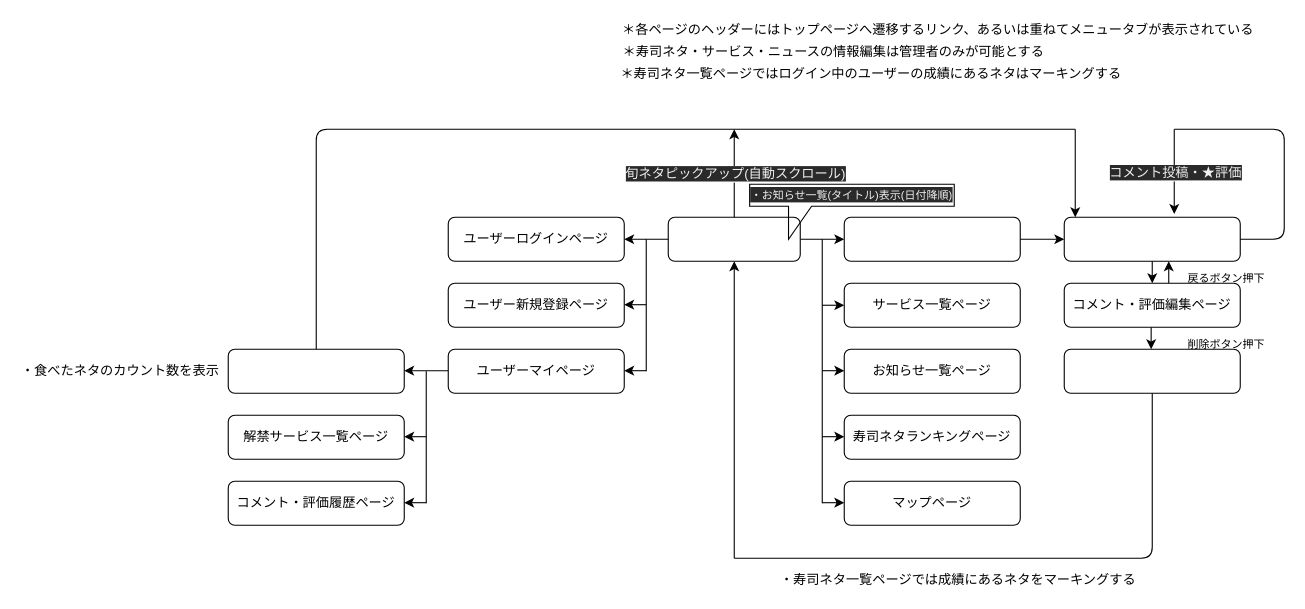
This 1305x609 diagram has some shape labels left out. Here are the shapes that lost their labels. From the top down, the centre of each, then its label:
At pixel 733 238: "TOPページ".
At pixel 931 238: "寿司ネタ一覧ページ".
At pixel 1151 238: "寿司ネタ詳細ページ".
At pixel 315 370: "寿司ネタ成績ページ".
At pixel 1151 370: "コメント・評価削除完了ページ".
